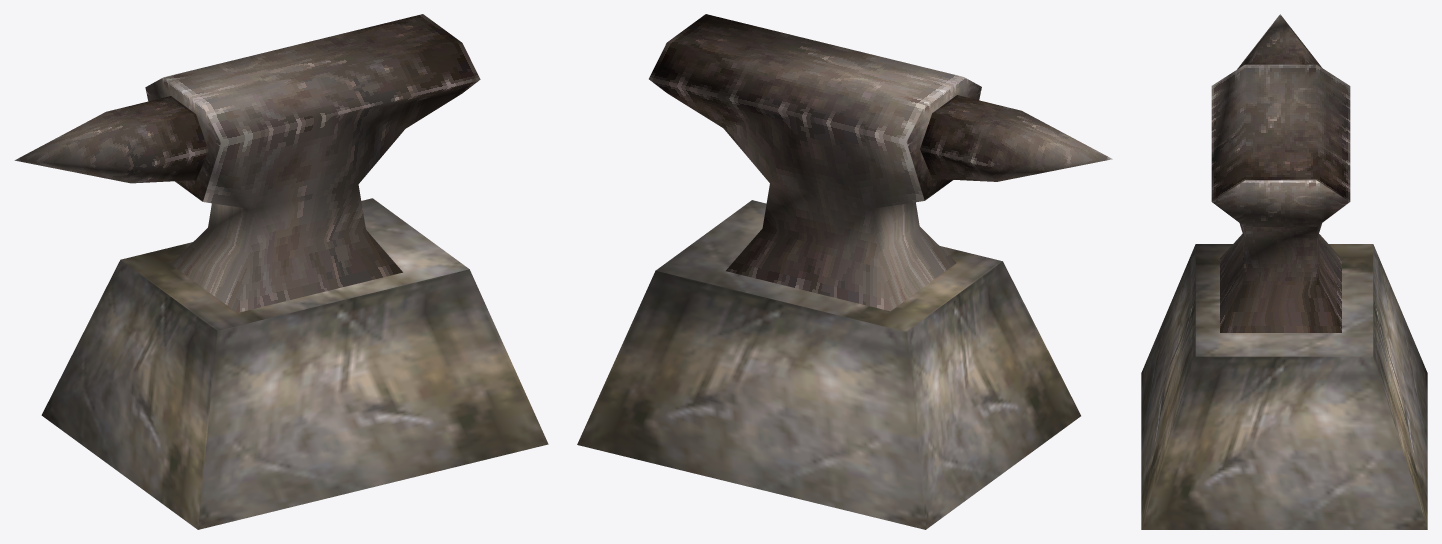
The model's file is tradeskill_anvil_01.obj.
3 renders of one model, left to right at view 1: azimuth 30°, elevation 25°; view 2: azimuth 150°, elevation 25°; view 3: azimuth 270°, elevation 25°, orthographic. The views are drawn at different scales.
Parts seen in each view (by area): view 1: Geoset0, Geoset1; view 2: Geoset0, Geoset1; view 3: Geoset0, Geoset1.
Boxes of the visible parts, x1,y1,x2,y2 form: Geoset0: (41,198,548,529); Geoset1: (14,14,480,312); Geoset0: (577,200,1080,529); Geoset1: (649,14,1112,311); Geoset0: (1141,244,1427,529); Geoset1: (1211,14,1350,332).
Size of the model in its own units: 1.89 by 1.45 by 1.12.
2 materials, 2 textured.
